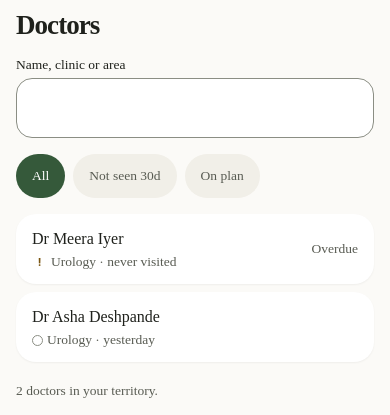
Scenario: app/doctors.tsx — "On plan" (MR-46 D1, the last of BE-W89) › offers the chip and keeps only the doctor on today’s plan
Click the button "On plan" at (222, 176), box [184,154,260,198]
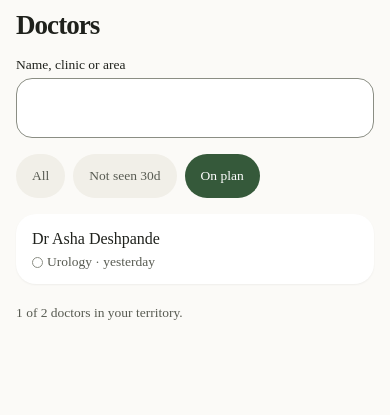
Expected: the text "Dr Asha Deshpande" is shown, [32,230,160,247]
Result: the button "Dr Meera Iyer" is gone
